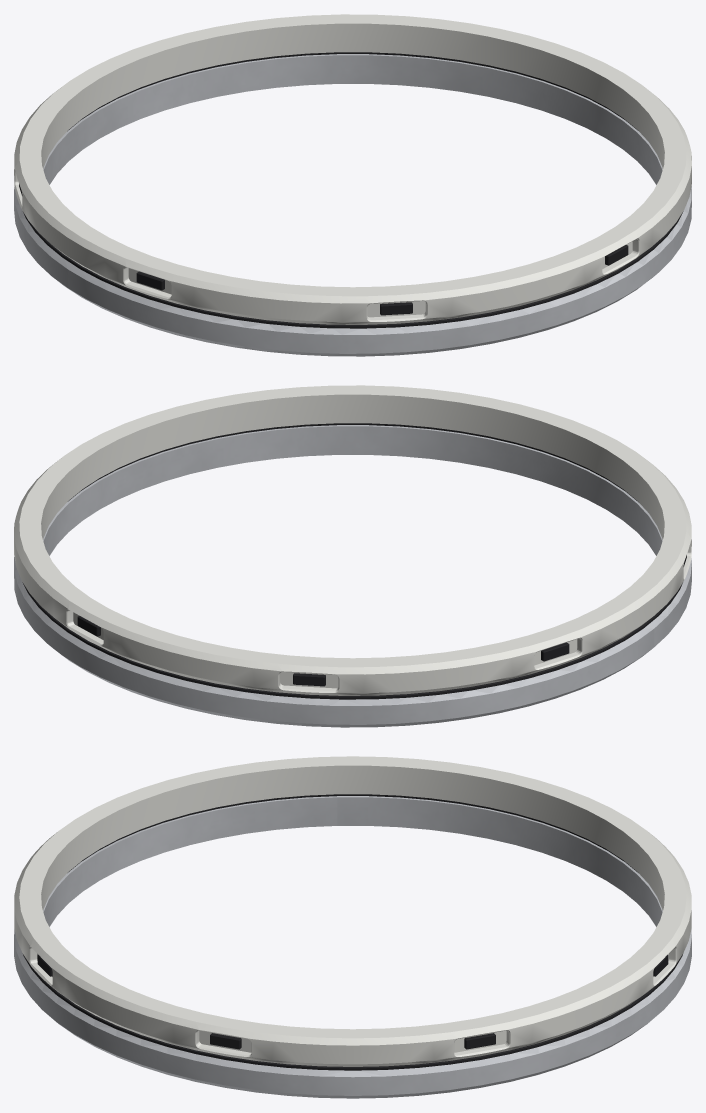
Rendered from ax_struct_06_stack_decoupler_m.glb.
3 renders of one model, top to bottom at view 1: azimuth 30°, elevation 25°; view 2: azimuth 150°, elevation 25°; view 3: azimuth 270°, elevation 25°, orthographic.
Parts seen in each view (by area): view 1: decoupler_upper_ring, decoupler_lower_ring, separation_plane, pyro_latches; view 2: decoupler_upper_ring, decoupler_lower_ring, separation_plane, pyro_latches; view 3: decoupler_upper_ring, decoupler_lower_ring, separation_plane, pyro_latches.
Boxes of the visible parts, x1,y1,x2,y2 form: decoupler_upper_ring: (14, 14, 691, 324); decoupler_lower_ring: (14, 54, 691, 356); separation_plane: (23, 52, 683, 328); pyro_latches: (19, 184, 628, 315); decoupler_upper_ring: (14, 385, 691, 695); decoupler_lower_ring: (14, 425, 691, 727); separation_plane: (22, 423, 682, 699); pyro_latches: (77, 555, 686, 686); decoupler_upper_ring: (14, 756, 691, 1066); decoupler_lower_ring: (14, 796, 691, 1098); separation_plane: (23, 794, 682, 1070); pyro_latches: (37, 954, 668, 1049).
Bounding box in the file's own units: 2.5 × 0.245 × 2.5.
3 materials, 1 textured.
